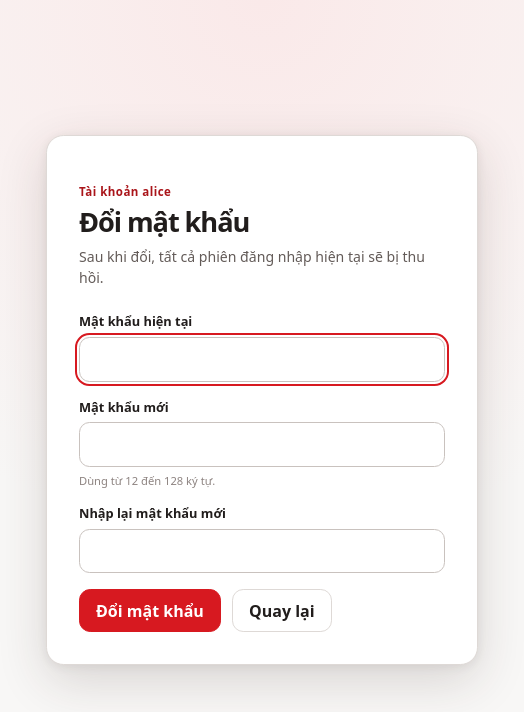
application authentication routes › sends CSRF on password change and requires login again
Type "old-password-123" into the password field labelled "Mật khẩu hiện tại" at coordinates (262, 359), box [79,337,445,382]
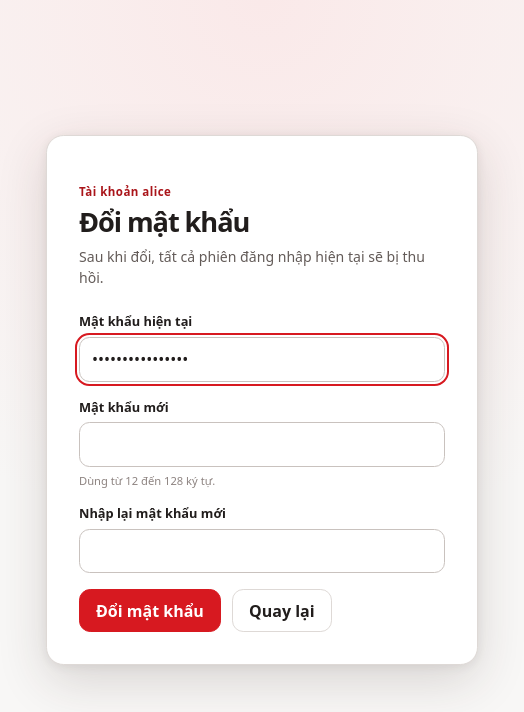
Type "new-password-123" into the password field labelled "Mật khẩu mới" at coordinates (262, 444), box [79,422,445,467]
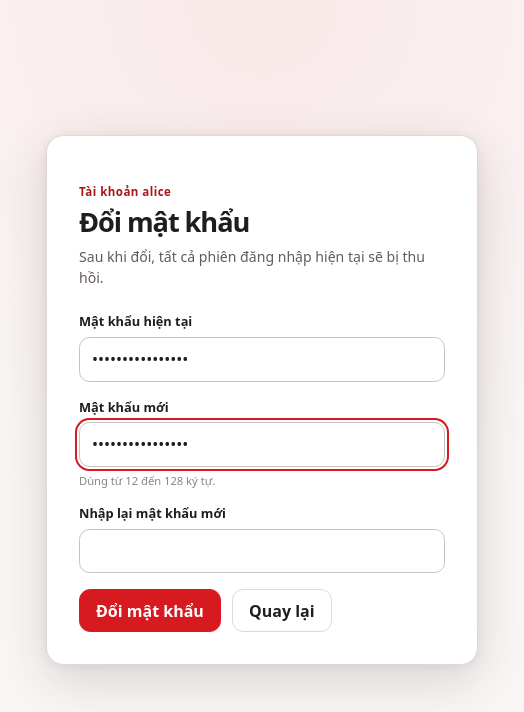
Type "new-password-123" into the password field labelled "Nhập lại mật khẩu mới" at coordinates (262, 551), box [79,529,445,573]
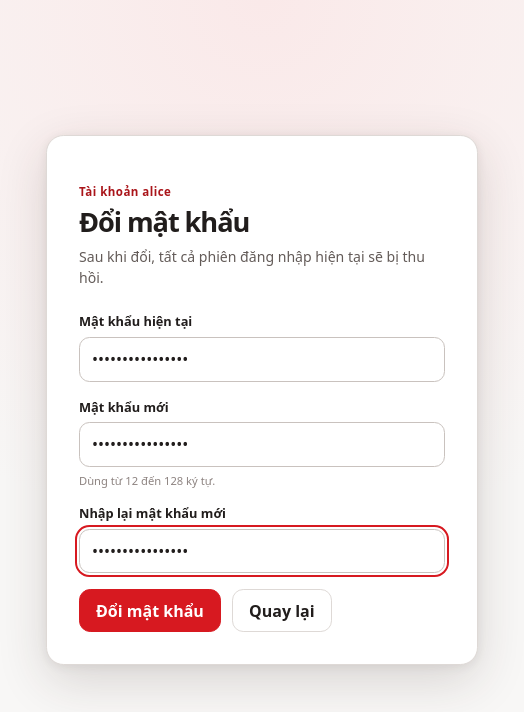
Click the button "Đổi mật khẩu" at coordinates (150, 611), box [79,589,221,632]
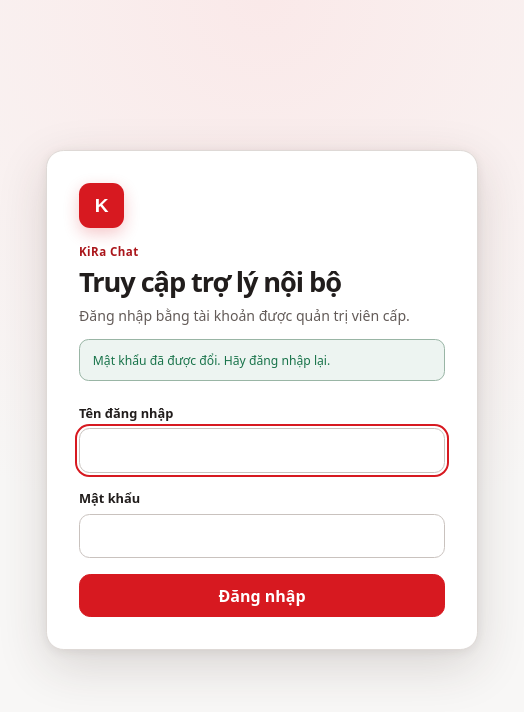
Expected: the text "Mật khẩu đã được đổi. Hãy đăng nhập lại." is shown, [79,340,445,381]
